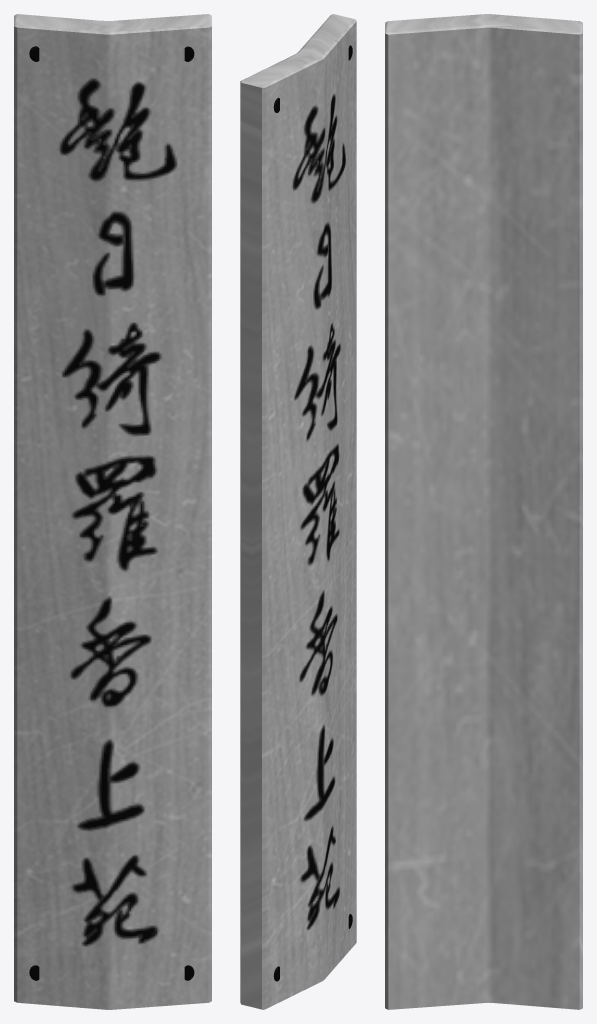
The model's file is SM_Stela09C.fbx.
3 renders of one model, left to right at view 1: azimuth 90°, elevation 25°; view 2: azimuth 150°, elevation 25°; view 3: azimuth 270°, elevation 25°, orthographic. The views are drawn at different scales.
Visible parts, largest first — view 1: SM_Stela09C; view 2: SM_Stela09C; view 3: SM_Stela09C.
Boxes of the visible parts, x1=… form: SM_Stela09C: x1=14, y1=14, x2=211, y2=1009; SM_Stela09C: x1=240, y1=14, x2=356, y2=1009; SM_Stela09C: x1=385, y1=14, x2=582, y2=1009.
Bounding box in the file's own units: 4.4 × 18.02 × 98.22.
Materials: 1 (1 with a texture image).
